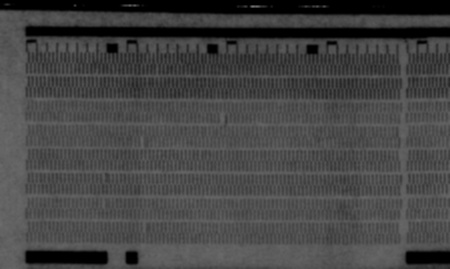Broken hole: (218, 111, 228, 125)
Oblique printing: (98, 196, 112, 209), (99, 172, 112, 186), (137, 135, 150, 149), (139, 221, 151, 234)
